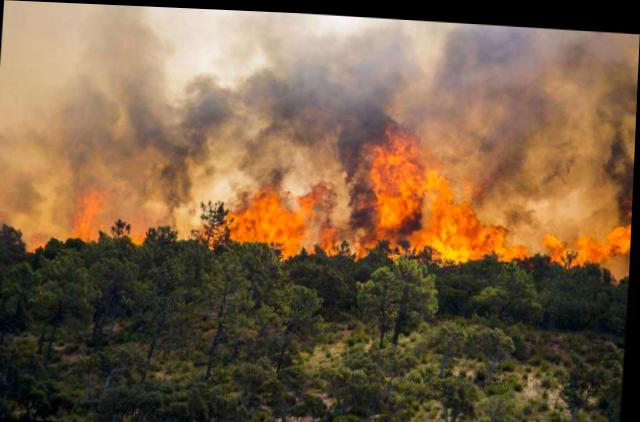fire: (200, 100, 537, 266), (34, 181, 165, 252), (547, 205, 633, 268)
